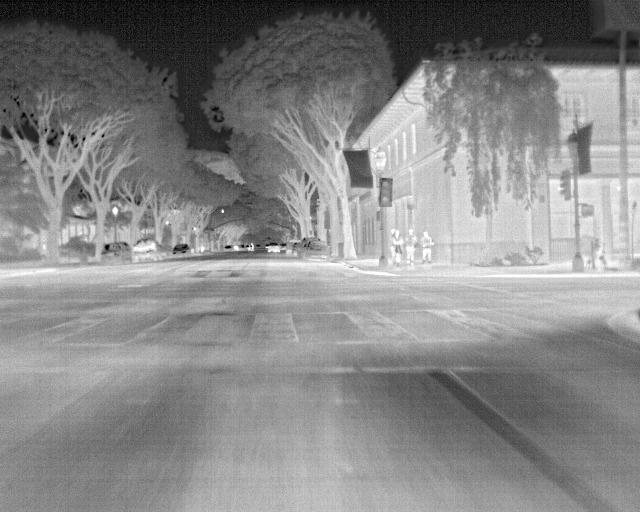bicycle: (130, 237, 168, 264), (99, 241, 132, 264), (304, 241, 332, 262), (169, 243, 195, 258), (265, 241, 285, 256)
empty: (388, 227, 406, 265), (405, 227, 418, 265), (419, 229, 433, 264)
